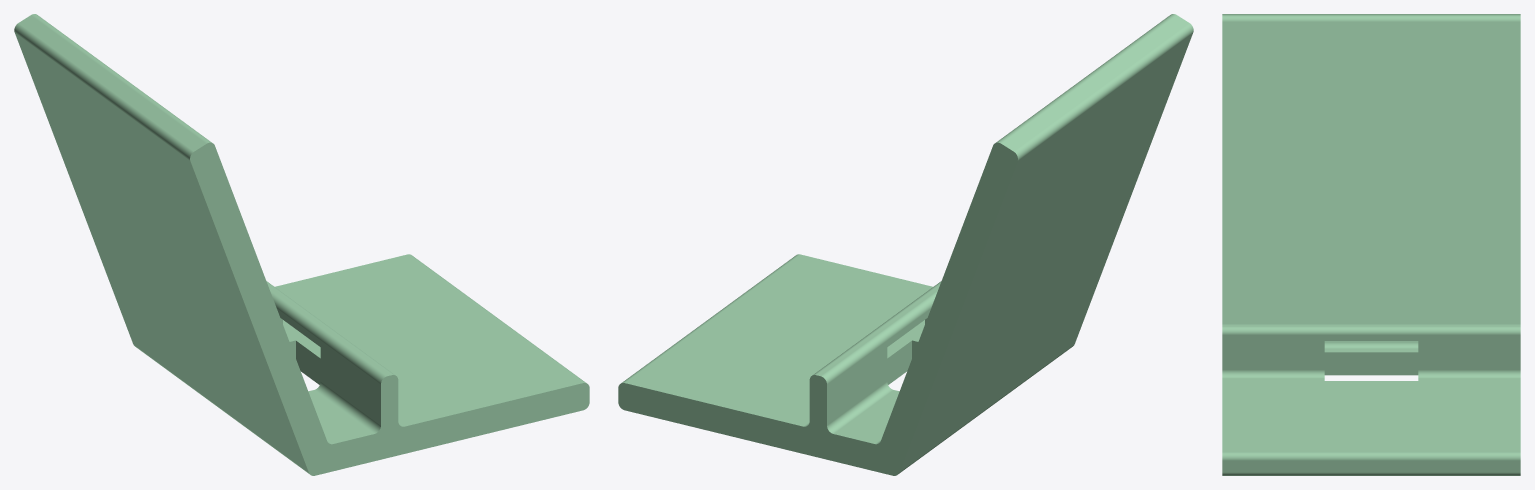
Rendered from stand.glb.
The picture shows the model from 3 angles, left to right: view 1: azimuth 30°, elevation 25°; view 2: azimuth 150°, elevation 25°; view 3: azimuth 270°, elevation 25°; orthographic projection. The views are drawn at different scales.
Parts seen in each view (by area): view 1: stand; view 2: stand; view 3: stand.
Boxes of the visible parts, x1,y1,x2,y2 form: stand: (14,14,589,475); stand: (618,14,1193,475); stand: (1222,14,1520,475).
Size of the model in its own units: 0.0919 by 0.0789 by 0.07.
